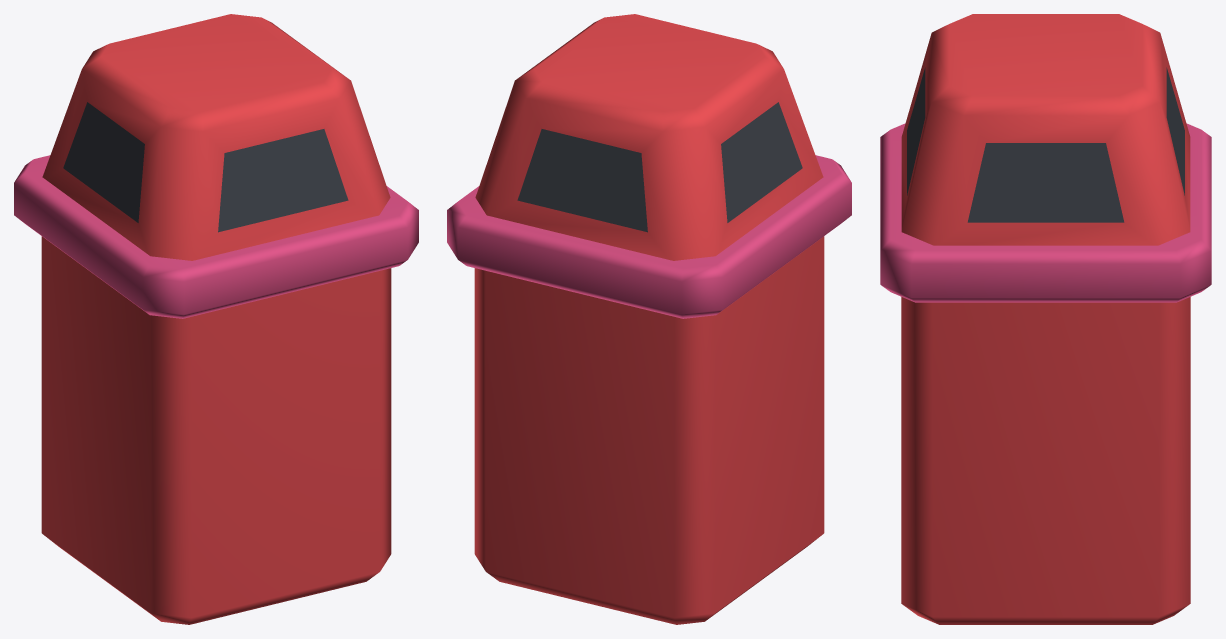
The model's file is trash_03_pacote.glb.
3 renders of one model, left to right at view 1: azimuth 30°, elevation 25°; view 2: azimuth 150°, elevation 25°; view 3: azimuth 270°, elevation 25°, orthographic. The views are drawn at different scales.
Parts seen in each view (by area): view 1: trash_03_pacote; view 2: trash_03_pacote; view 3: trash_03_pacote.
Boxes of the visible parts, x1,y1,x2,y2 form: trash_03_pacote: [14, 14, 418, 624]; trash_03_pacote: [447, 14, 851, 624]; trash_03_pacote: [880, 14, 1211, 624].
Size of the model in its own units: 0.5099 by 0.8757 by 0.5099.
Materials: 1 (1 with a texture image).
